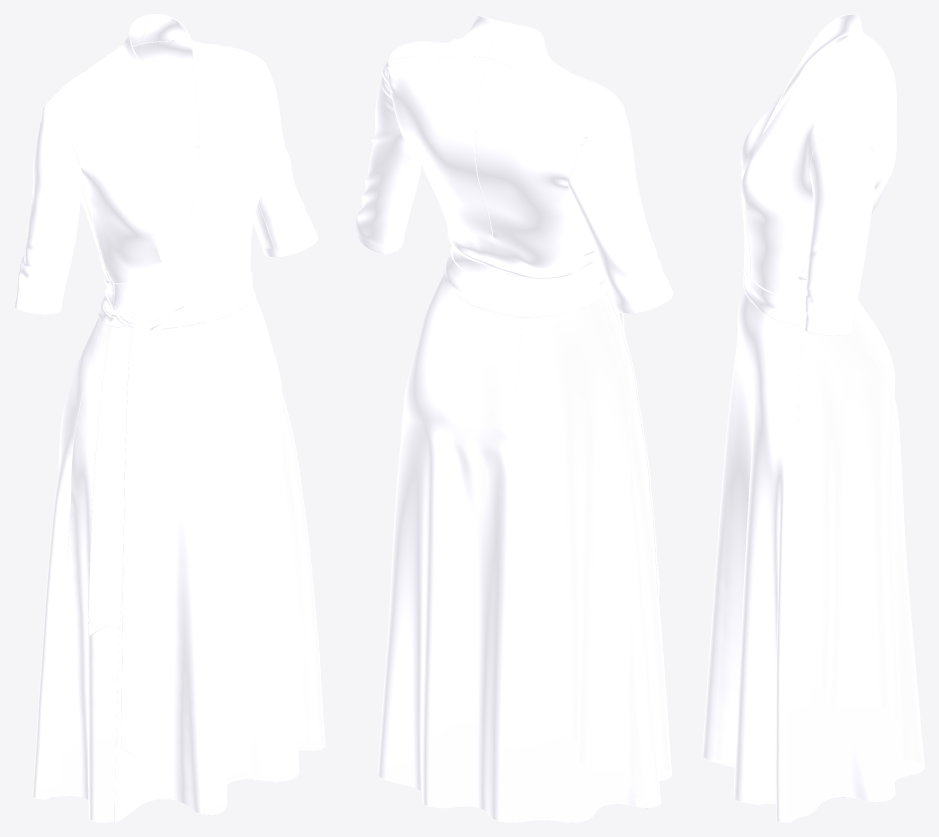
Rendered from outfit3.glb.
3 renders of one model, left to right at view 1: azimuth 30°, elevation 25°; view 2: azimuth 150°, elevation 25°; view 3: azimuth 270°, elevation 25°, orthographic. The views are drawn at different scales.
Parts seen in each view (by area): view 1: F_F_Skrt, R_F_Top, L_F_Top, Belt, F_Skrt, R_Sleeve, B_Skrt, L_Sleeve, B_Top; view 2: B_Skrt, B_Top, R_Sleeve, L_Sleeve, F_Skrt, Belt, R_F_Top, L_F_Top; view 3: B_Skrt, F_F_Skrt, L_F_Top, L_Sleeve, B_Top, R_F_Top, Belt.
Part boxes in pixels (bbox=[...]): F_F_Skrt: bbox=[114, 297, 325, 822]; R_F_Top: bbox=[45, 15, 197, 283]; L_F_Top: bbox=[112, 14, 268, 316]; Belt: bbox=[88, 271, 255, 757]; F_Skrt: bbox=[51, 324, 126, 822]; R_Sleeve: bbox=[14, 105, 83, 314]; B_Skrt: bbox=[32, 317, 103, 799]; L_Sleeve: bbox=[253, 59, 318, 257]; B_Top: bbox=[46, 41, 198, 306]; B_Skrt: bbox=[377, 275, 661, 822]; B_Top: bbox=[388, 56, 599, 289]; R_Sleeve: bbox=[567, 101, 673, 314]; L_Sleeve: bbox=[354, 49, 421, 254]; F_Skrt: bbox=[519, 293, 671, 781]; Belt: bbox=[443, 246, 659, 594]; R_F_Top: bbox=[488, 19, 620, 114]; L_F_Top: bbox=[389, 14, 602, 273]; B_Skrt: bbox=[793, 299, 924, 818]; F_F_Skrt: bbox=[702, 286, 801, 822]; L_F_Top: bbox=[741, 20, 873, 297]; L_Sleeve: bbox=[804, 131, 876, 336]; B_Top: bbox=[794, 37, 896, 298]; R_F_Top: bbox=[741, 14, 873, 167]; Belt: bbox=[743, 251, 806, 325].
Bounding box in the file's own units: 0.5322 × 1.26 × 0.3431.
Materials: 1 (1 with a texture image).
